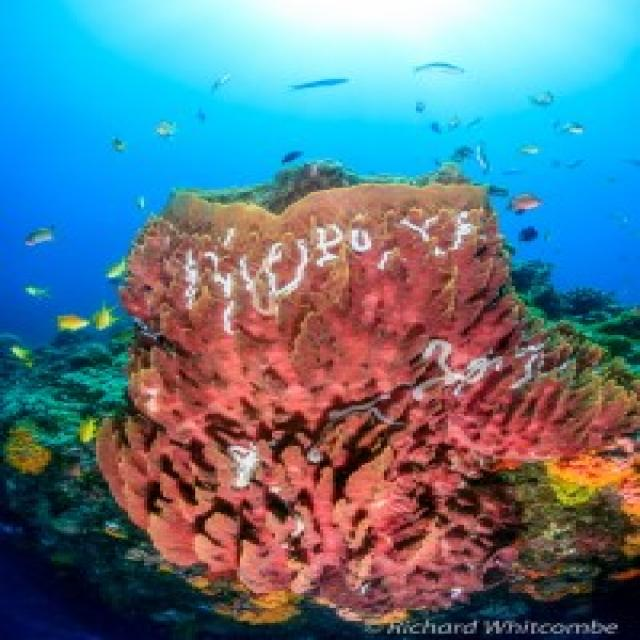Coral: (93, 181, 640, 624)
